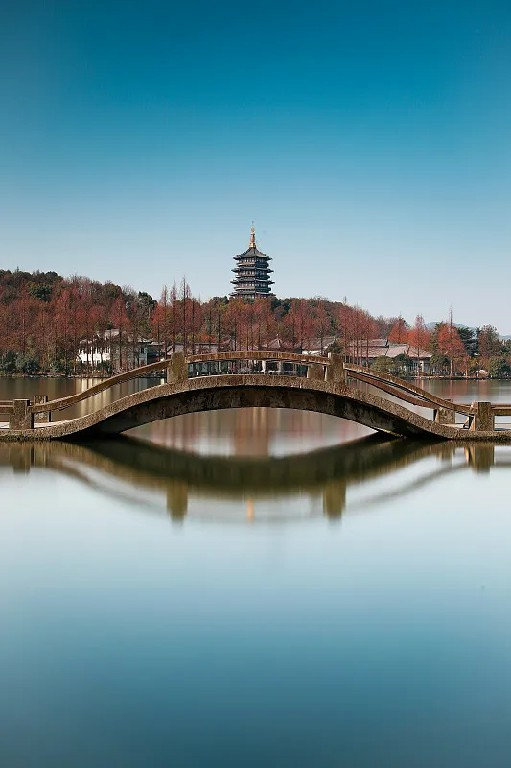Leifeng: (225, 218, 277, 304)
